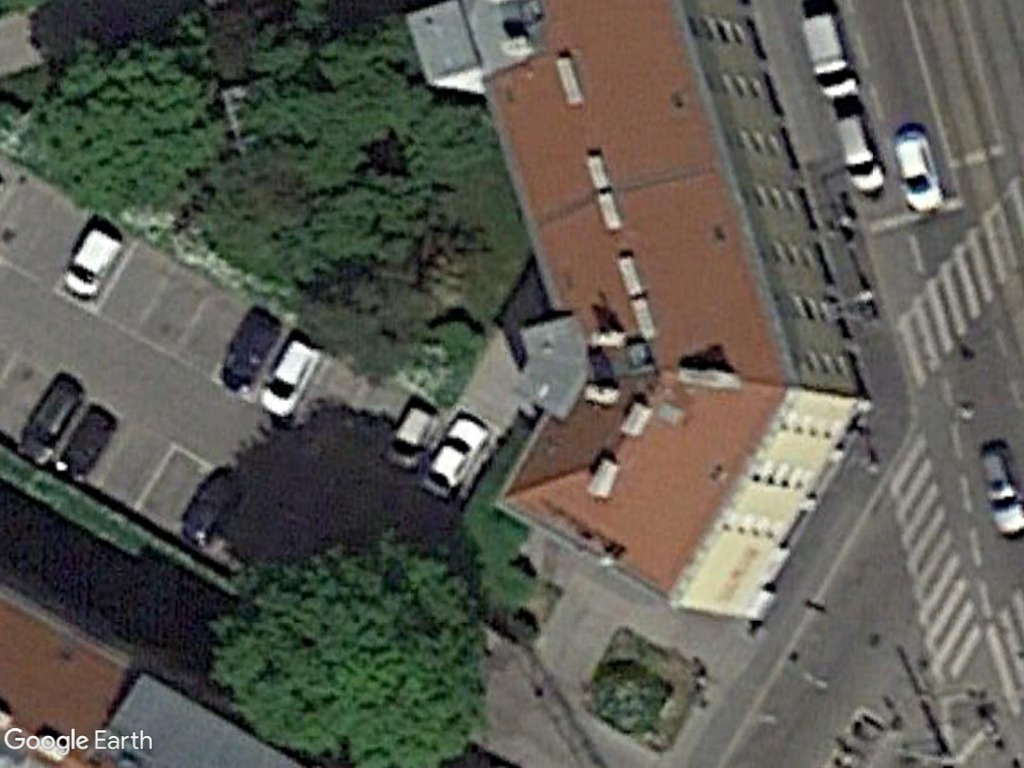car: (15, 369, 88, 466), (418, 414, 495, 501), (253, 334, 326, 421), (828, 101, 889, 201), (889, 124, 949, 223), (58, 218, 123, 304), (974, 439, 1024, 543), (378, 399, 440, 469)
van: (797, 5, 860, 105)
